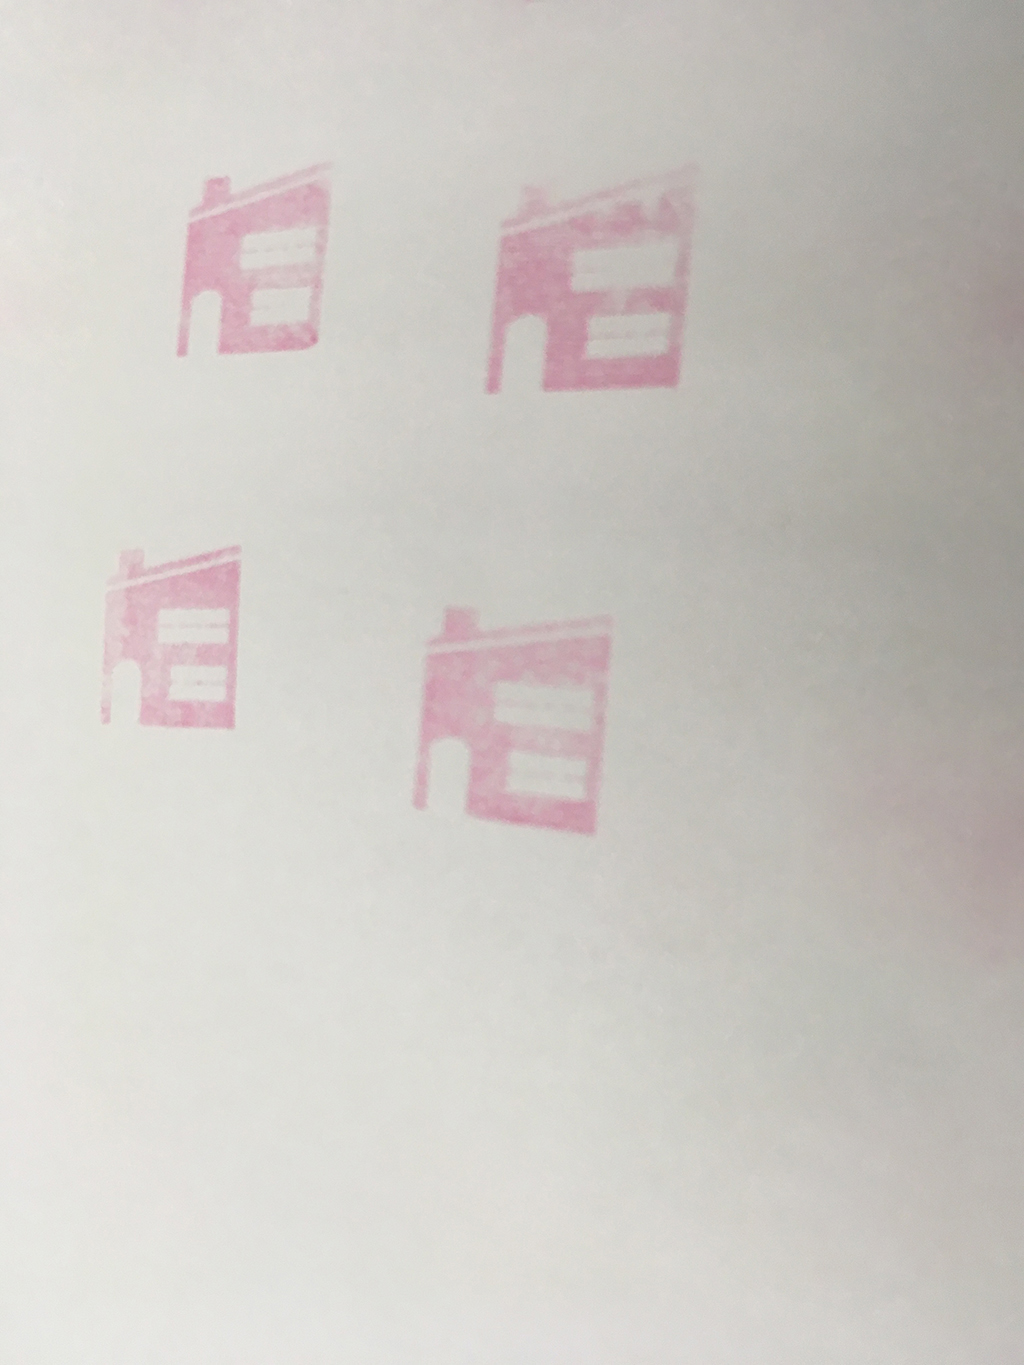house: (387, 586, 632, 852), (470, 142, 701, 406), (156, 148, 354, 373), (71, 523, 256, 754)
